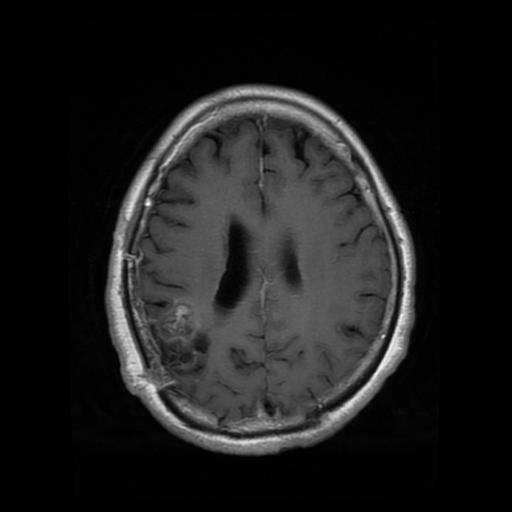Tumour-Glioma: (142, 295, 218, 366)
